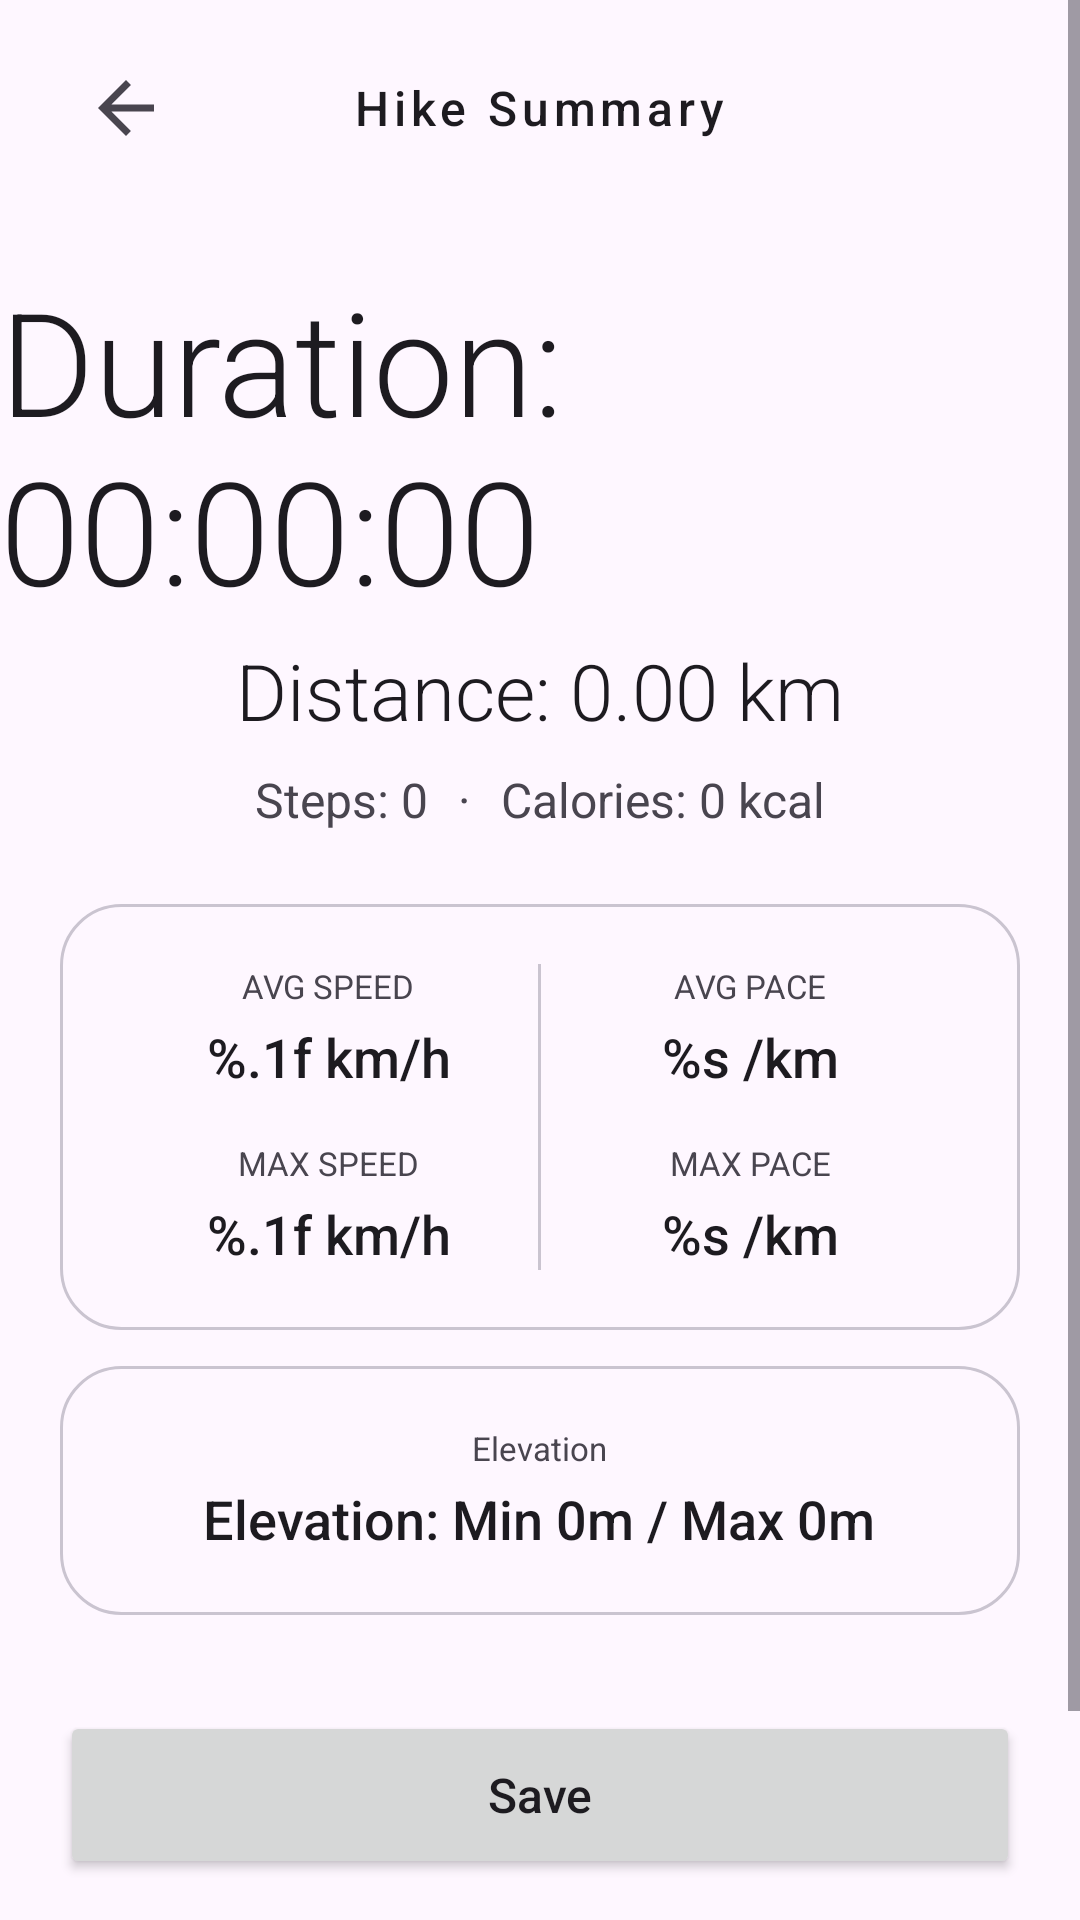

Where to tap for icons on this 1080*1920 app screen, as (x=x, y=y):
back: (x=126, y=108)
